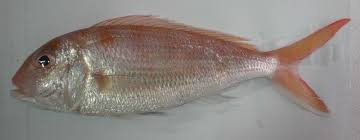Ikan Kerisi: (7, 2, 354, 127)
